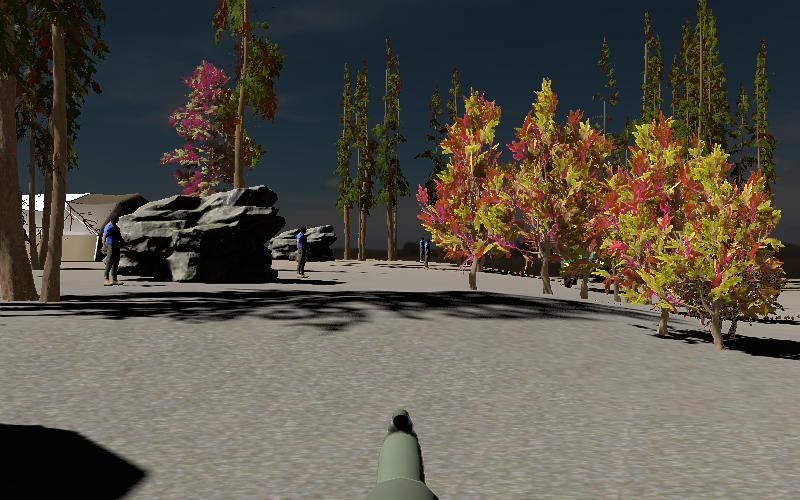Human: (101, 211, 127, 287), (294, 225, 310, 277)
